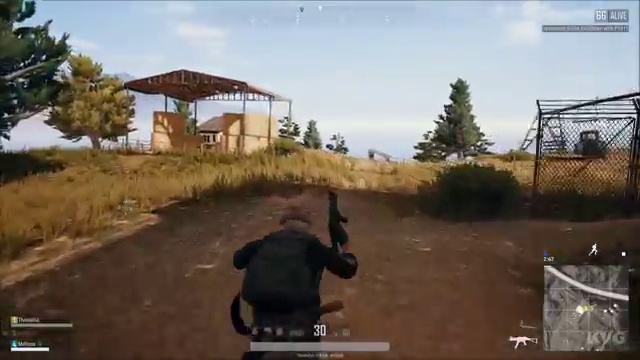Player: (211, 185, 369, 321)
